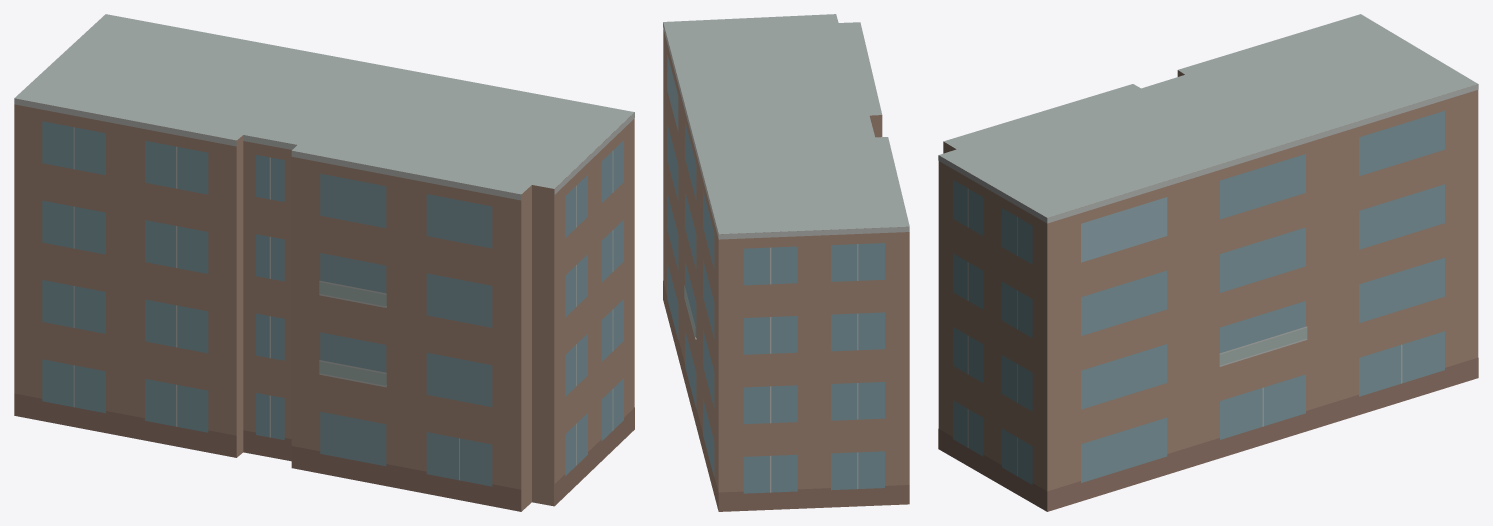
File: survey-upis-32660706.glb
3 views of the same model, side by side, from view 1: azimuth 30°, elevation 25°; view 2: azimuth 150°, elevation 25°; view 3: azimuth 270°, elevation 25° (orthographic). The views are drawn at different scales.
Parts seen in each view (by area): view 1: survey-upis-32660706.tmp; view 2: survey-upis-32660706.tmp; view 3: survey-upis-32660706.tmp.
Boxes of the visible parts, box(x1,y1,x2,y2) form: survey-upis-32660706.tmp: box(14, 14, 634, 511); survey-upis-32660706.tmp: box(663, 14, 909, 511); survey-upis-32660706.tmp: box(938, 14, 1478, 511).
Bounding box in the file's own units: 18.96 × 12.74 × 21.21.
